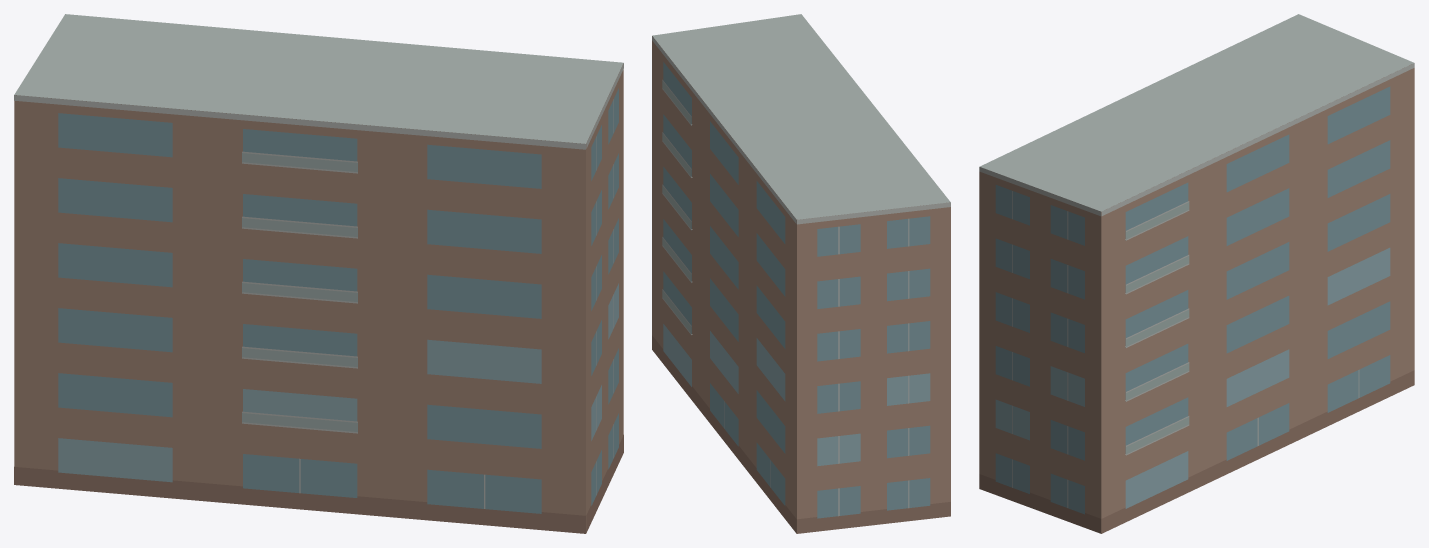
The model's file is survey-upis-32534264.glb.
The picture shows the model from 3 angles, left to right: view 1: azimuth 30°, elevation 25°; view 2: azimuth 150°, elevation 25°; view 3: azimuth 270°, elevation 25°; orthographic projection. The views are drawn at different scales.
Parts seen in each view (by area): view 1: survey-upis-32534264.tmp; view 2: survey-upis-32534264.tmp; view 3: survey-upis-32534264.tmp.
Part boxes in pixels (x1,y1,x2,y2): survey-upis-32534264.tmp: [14, 14, 623, 533]; survey-upis-32534264.tmp: [652, 14, 950, 533]; survey-upis-32534264.tmp: [979, 14, 1414, 533].
Size of the model in its own units: 21.39 by 16.25 by 19.89.
